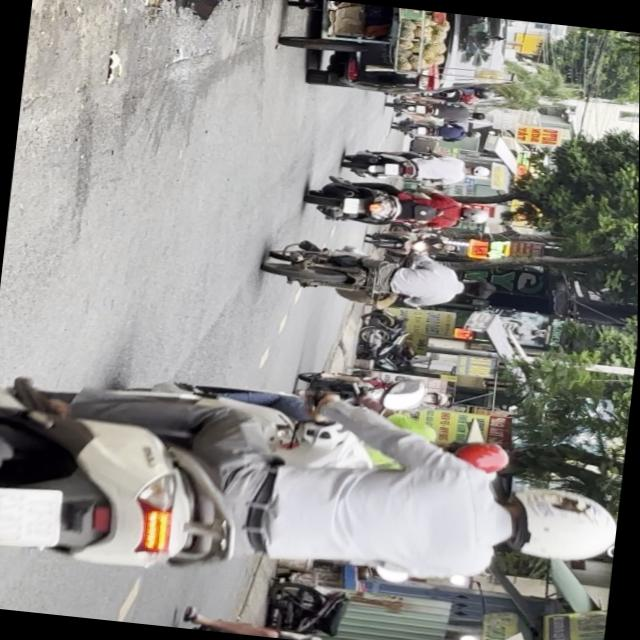helmet: (492, 483, 621, 568), (440, 437, 511, 476)
licenseplate: (0, 353, 629, 627), (260, 234, 500, 320), (293, 362, 455, 422)
motorcyclist: (458, 277, 496, 301)
nohelmet: (0, 485, 65, 551)
